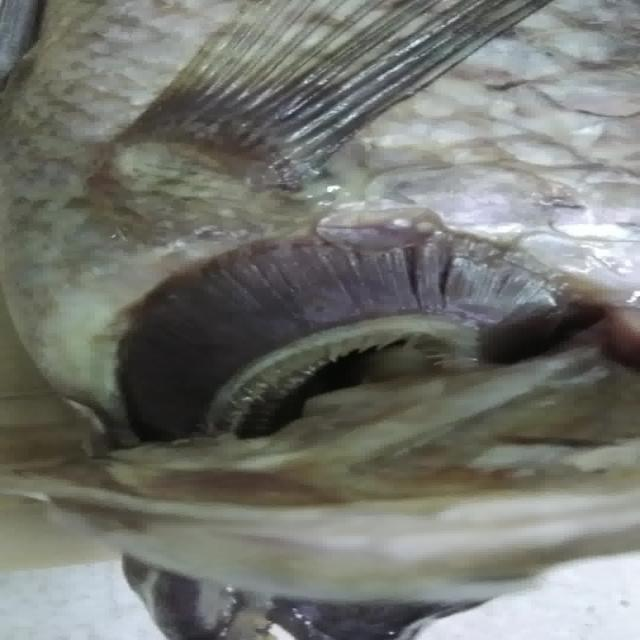Non-Fresh: (65, 217, 585, 453)
